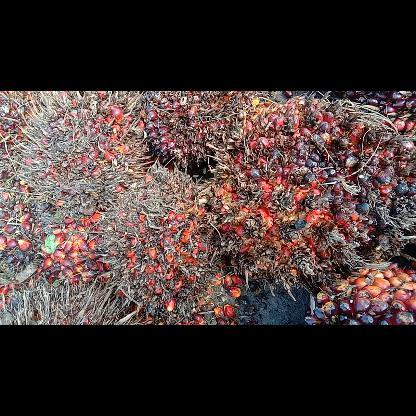Terlalu masak: (207, 92, 415, 300), (92, 162, 235, 324), (0, 91, 152, 229), (130, 90, 272, 178), (301, 256, 415, 324)
